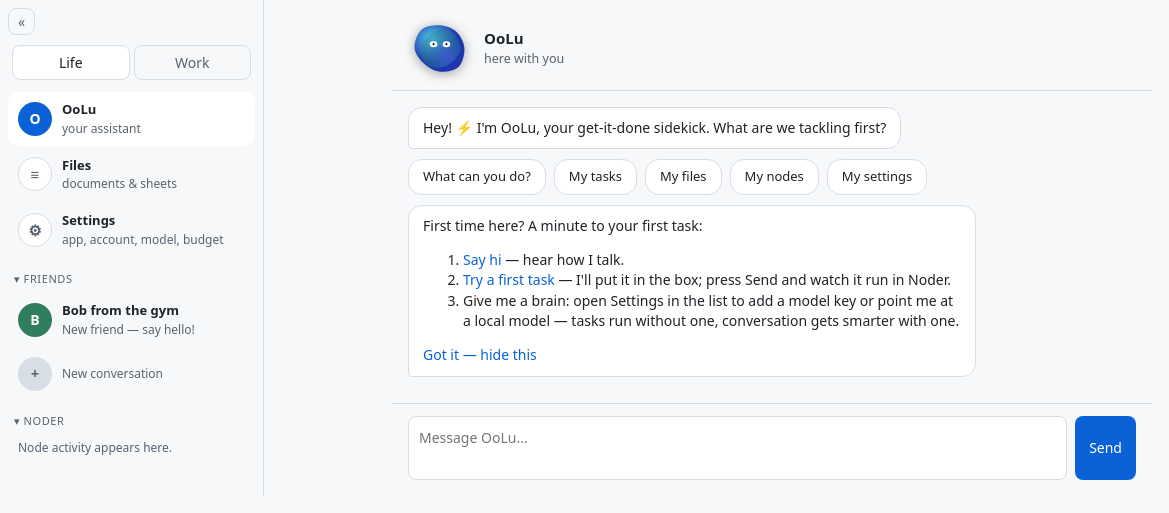
Scenario: friend memory: name notes and the thread header › the profile holds pin, mute, hide, and delete — each its own call
Later steps or results of the test are not shown.
Click the text "Bob from the gym". click: (128,311)
box: [62,301,195,320]
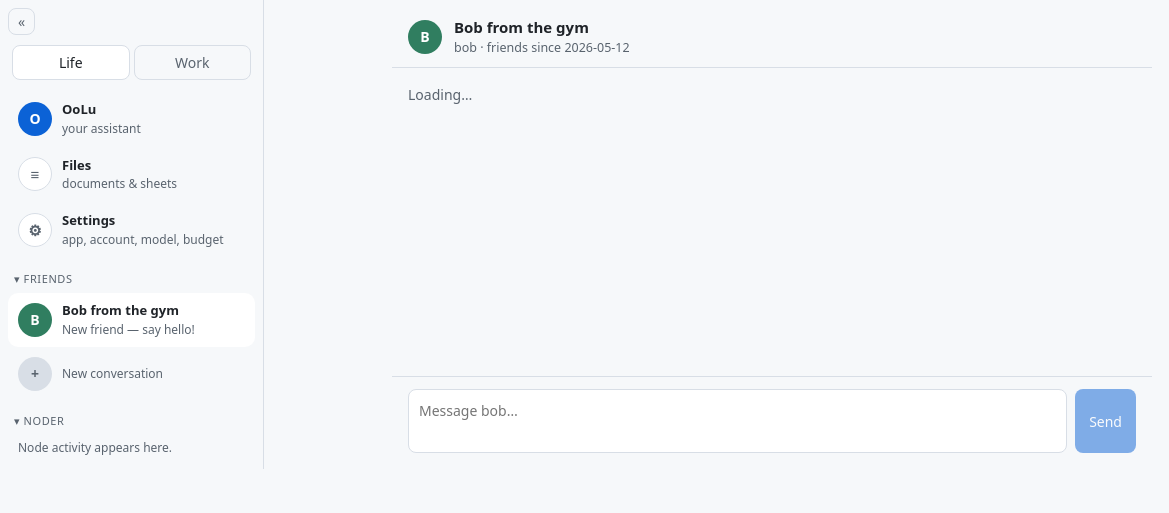
Click the button named "Profile of bob". click: (425,37)
box: [408,20,442,54]
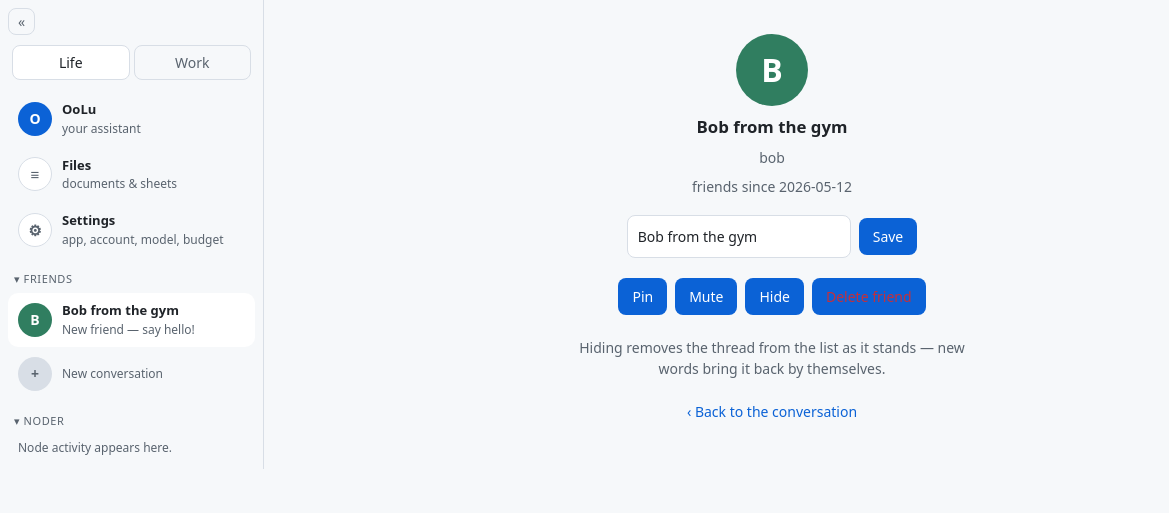
Click the button "Pin". click: (643,297)
box: [618,278,667,315]
Now the button "Delete friend" is enabled, box [812,278,926,315]
